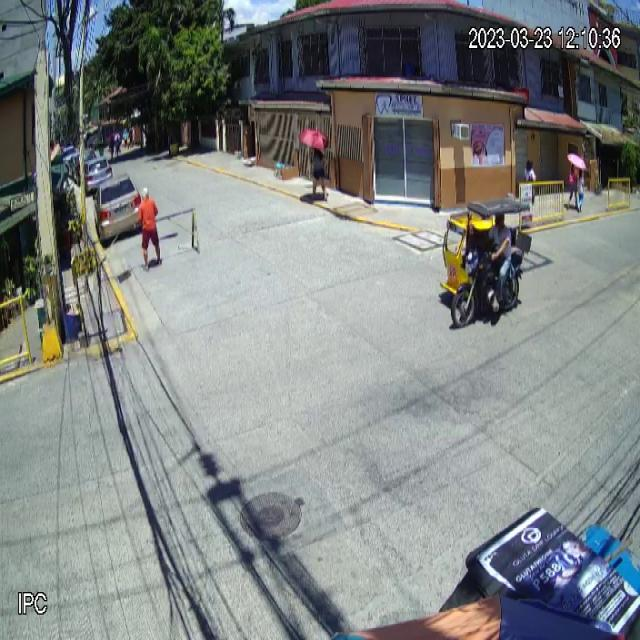Car: (92, 172, 142, 245)
Tricycle: (439, 198, 533, 330)
